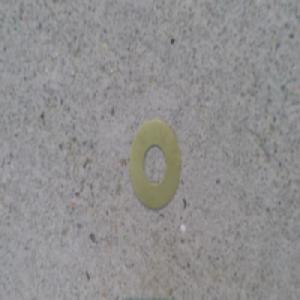Washer: (129, 115, 184, 214)
